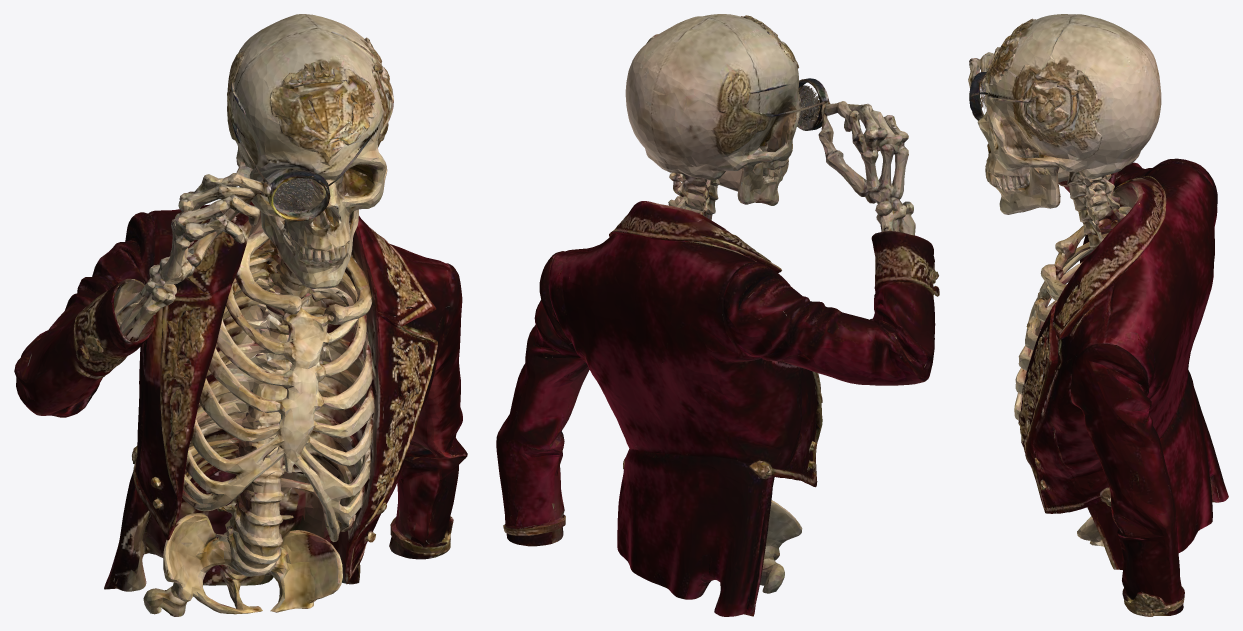
File: 02_Baron_Viktor.glb
3 renders of one model, left to right at view 1: azimuth 30°, elevation 25°; view 2: azimuth 150°, elevation 25°; view 3: azimuth 270°, elevation 25°, orthographic. The views are drawn at different scales.
Visible parts, largest first — view 1: world; view 2: world; view 3: world.
Part boxes in pixels (x1=…): world: x1=14, y1=14, x2=467, y2=616; world: x1=496, y1=14, x2=939, y2=616; world: x1=968, y1=14, x2=1228, y2=616.
Bounding box in the file's own units: 1.64 × 1.99 × 0.9045.
1 material, 1 textured.
